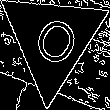O_SW: (23, 7, 82, 74)
